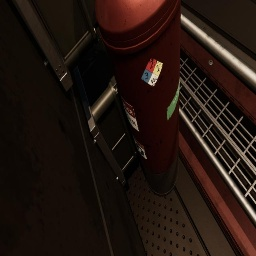NitrogenTank ,: (95, 0, 181, 196)
